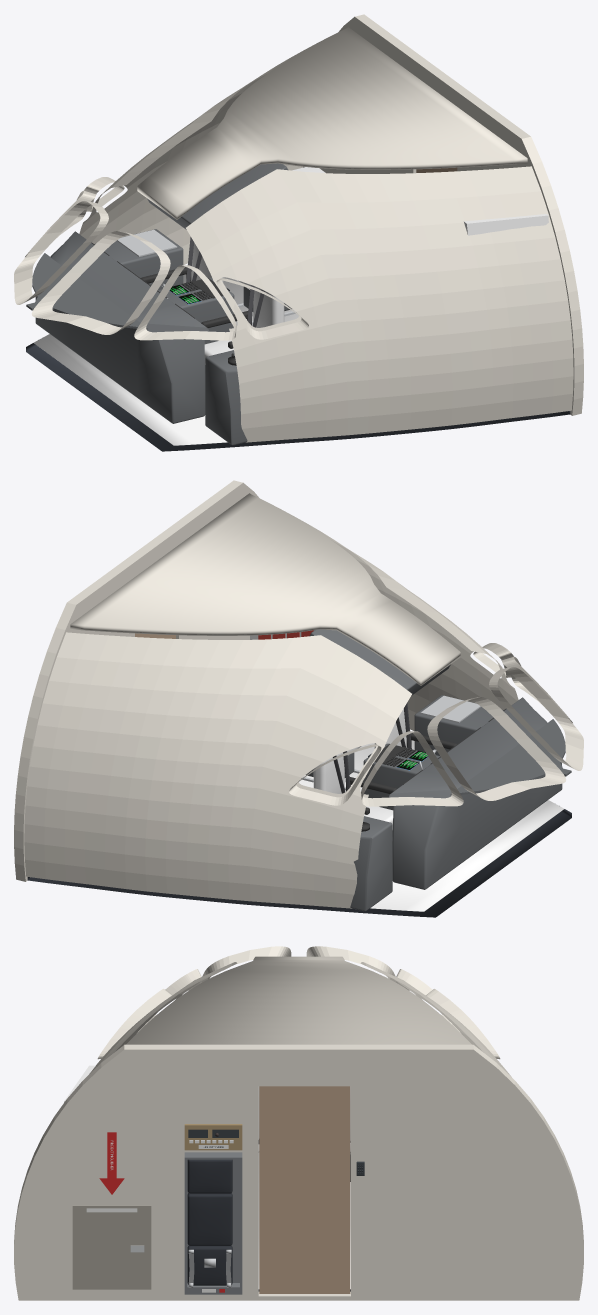
Rendered from cockpit.glb.
3 renders of one model, top to bottom at view 1: azimuth 30°, elevation 25°; view 2: azimuth 150°, elevation 25°; view 3: azimuth 270°, elevation 25°, orthographic. The views are drawn at different scales.
Visible parts, largest first — view 1: Z00_FD_Lining_L, Z00_FD_Ceiling, Z05_FD_WindowReveal, Z05_FD_MainPanel, Z00_Wall_Fwd, Z00_FD_Lining_R, Z00_Floor_FlightDeck, Z05_FD_Glareshield, Z00_FD_Floor, Z05_FD_SideConsole_L, Z05_FD_Coaming, Z05_FD_SideConsole_R (+5 smaller); view 2: Z00_FD_Lining_R, Z00_FD_Ceiling, Z05_FD_WindowReveal, Z05_FD_MainPanel, Z00_Wall_Fwd, Z00_FD_Lining_L, Z00_Floor_FlightDeck, Z05_FD_Glareshield, Z00_FD_Floor, Z05_FD_SideConsole_R, Z05_FD_Coaming, Z05_FD_SideConsole_L (+4 smaller); view 3: Z00_Wall_Fwd, Z00_FD_Ceiling, Z05_FD_Door, Z05_EmergencyEquip_Door1, Z05_Door1_JumpSeat, Z05_FD_WindowReveal, Z05_Door1_AttendantPanel, Z05_Door1_JumpSeat_Pan, Z00_FD_Lining_L, Z00_FD_Lining_R.
Part boxes in pixels (x1,y1,x2,y2): Z00_FD_Lining_L: (186, 166, 573, 442); Z00_FD_Ceiling: (137, 27, 527, 219); Z05_FD_WindowReveal: (14, 177, 308, 340); Z05_FD_MainPanel: (35, 245, 205, 423); Z00_Wall_Fwd: (303, 14, 583, 415); Z00_FD_Lining_R: (79, 30, 342, 265); Z00_Floor_FlightDeck: (33, 263, 298, 445); Z05_FD_Glareshield: (51, 231, 208, 332); Z00_FD_Floor: (26, 343, 570, 451); Z05_FD_SideConsole_L: (205, 350, 247, 445); Z05_FD_Coaming: (26, 253, 147, 329); Z05_FD_SideConsole_R: (94, 229, 183, 289); Z00_FD_Lining_R: (24, 632, 411, 908); Z00_FD_Ceiling: (70, 493, 460, 685); Z05_FD_WindowReveal: (289, 643, 583, 806); Z05_FD_MainPanel: (392, 711, 562, 889); Z00_Wall_Fwd: (14, 480, 258, 881); Z00_FD_Lining_L: (255, 496, 518, 731); Z00_Floor_FlightDeck: (299, 729, 564, 911); Z05_FD_Glareshield: (389, 697, 546, 798); Z00_FD_Floor: (27, 809, 571, 917); Z05_FD_SideConsole_R: (350, 816, 392, 911); Z05_FD_Coaming: (450, 719, 571, 795); Z05_FD_SideConsole_L: (414, 695, 503, 755); Z00_Wall_Fwd: (14, 1044, 583, 1300); Z00_FD_Ceiling: (126, 956, 471, 1044); Z05_FD_Door: (259, 1086, 350, 1293); Z05_EmergencyEquip_Door1: (72, 1132, 151, 1289); Z05_Door1_JumpSeat: (184, 1152, 242, 1294); Z05_FD_WindowReveal: (97, 946, 500, 1059); Z05_Door1_AttendantPanel: (184, 1124, 242, 1150); Z05_Door1_JumpSeat_Pan: (187, 1245, 232, 1285); Z00_FD_Lining_L: (89, 962, 237, 1074); Z00_FD_Lining_R: (360, 962, 511, 1076).
Bounding box in the file's own units: 4.56 × 2.4 × 4.94.
Materials: 33 (6 with a texture image).
